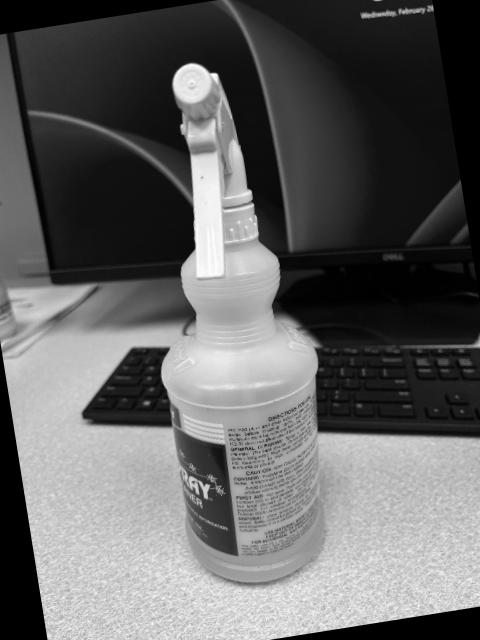StarSpray: (160, 64, 326, 587)
